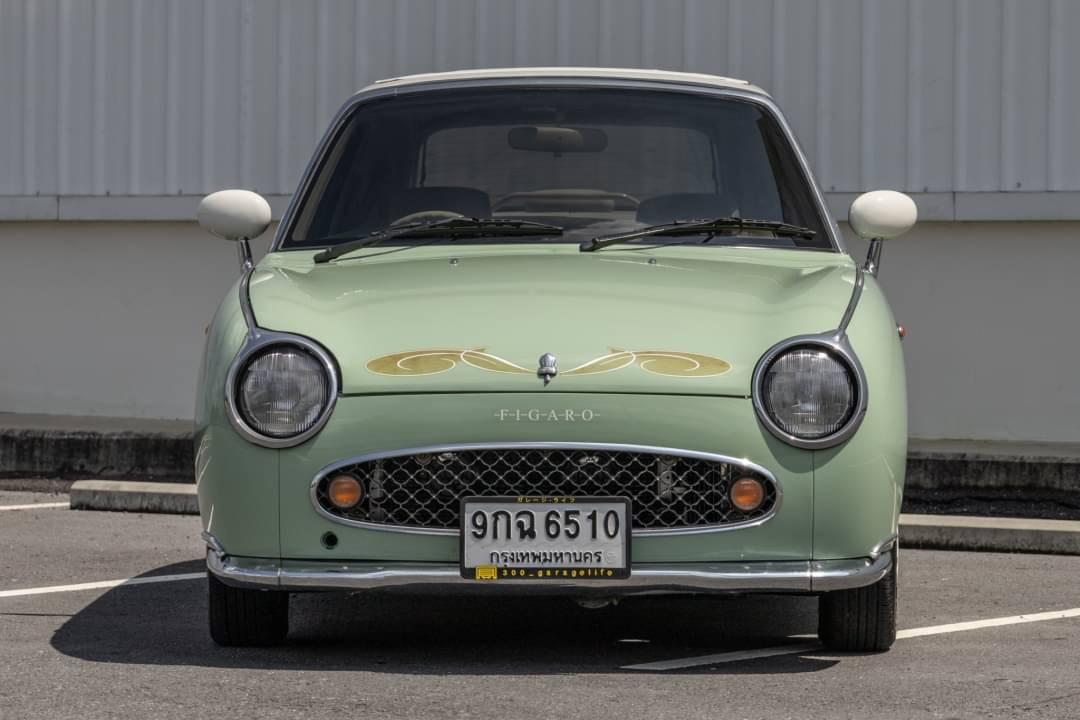license-plate: (457, 492, 633, 583)
